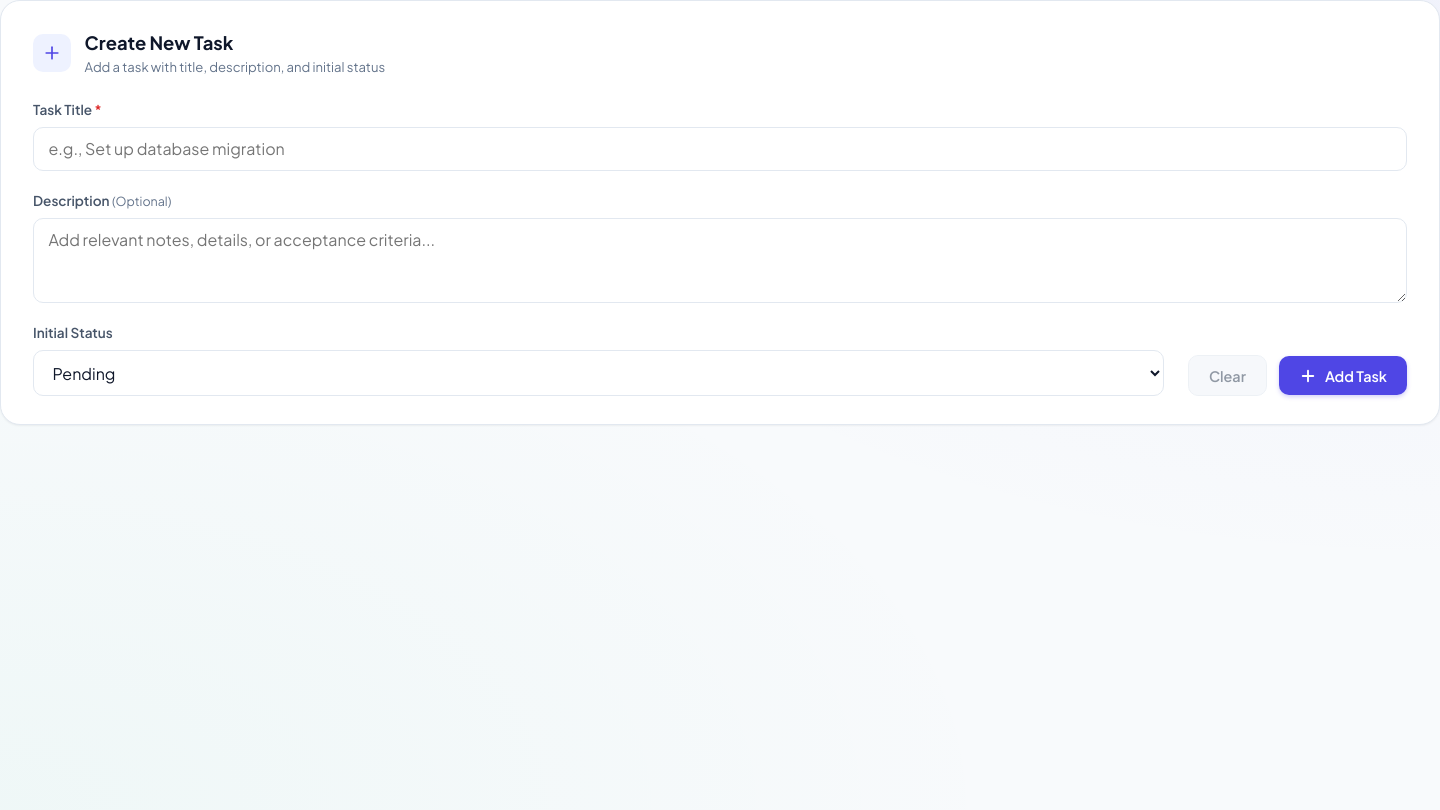
Test: TaskForm Component › shows validation error when submitting with empty title
Click the button "Add Task". click: click(1343, 376)
box: x1=1279 y1=356 x2=1407 y2=395
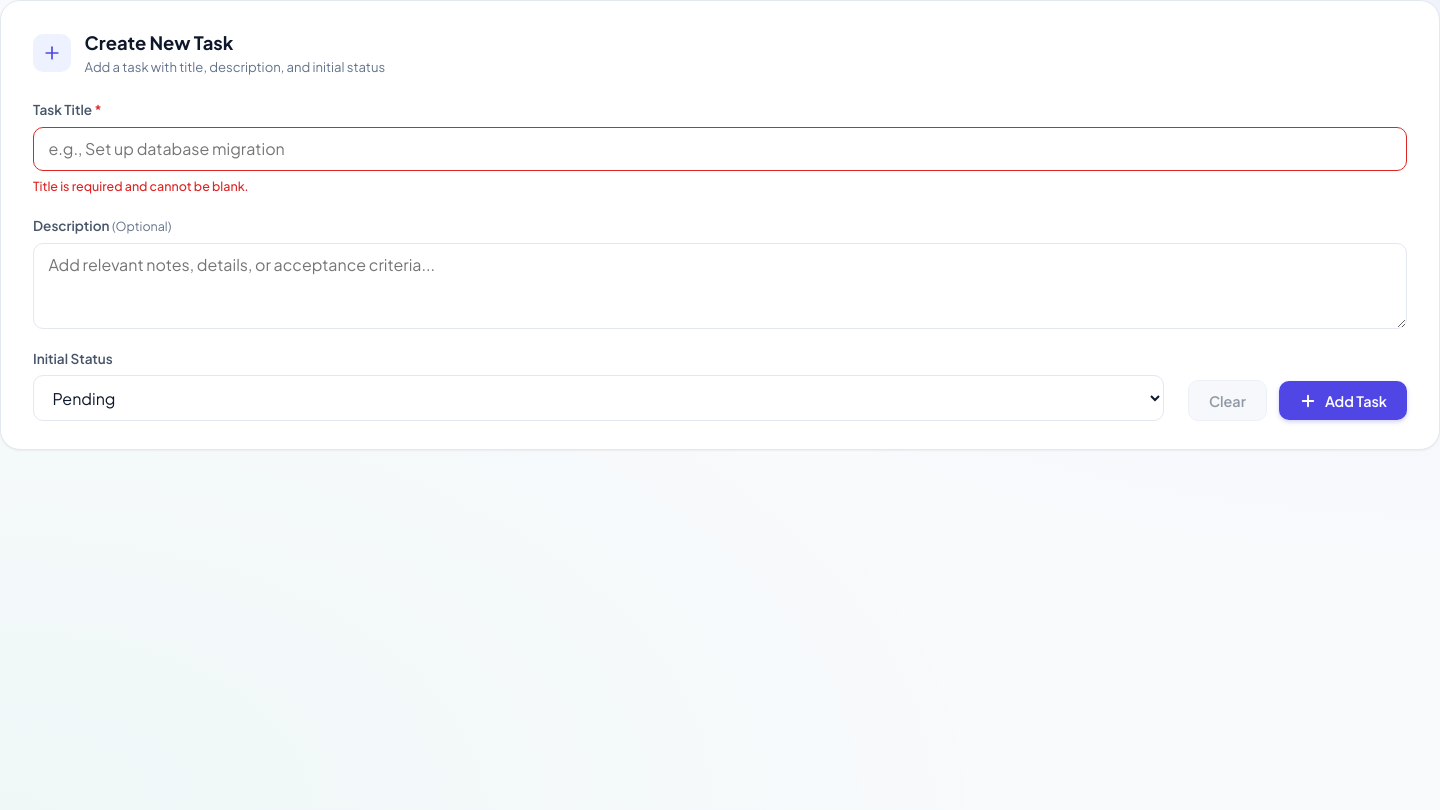
Expected: the text "Title is required and cannot be blank." is shown, x1=33 y1=178 x2=249 y2=194
